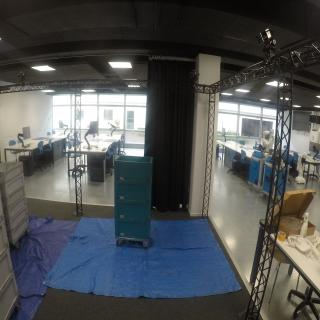BoxB4: (116, 155, 153, 186), (114, 199, 152, 225), (115, 183, 155, 205), (115, 219, 153, 241)
